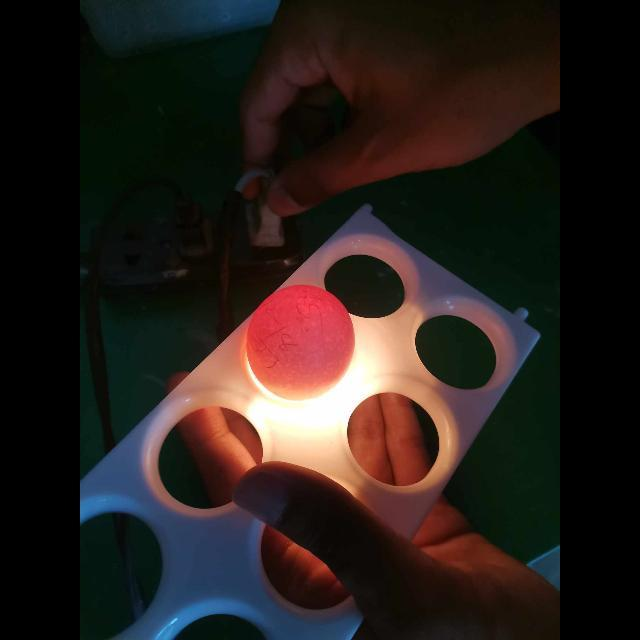Infertile: (246, 280, 360, 406)
